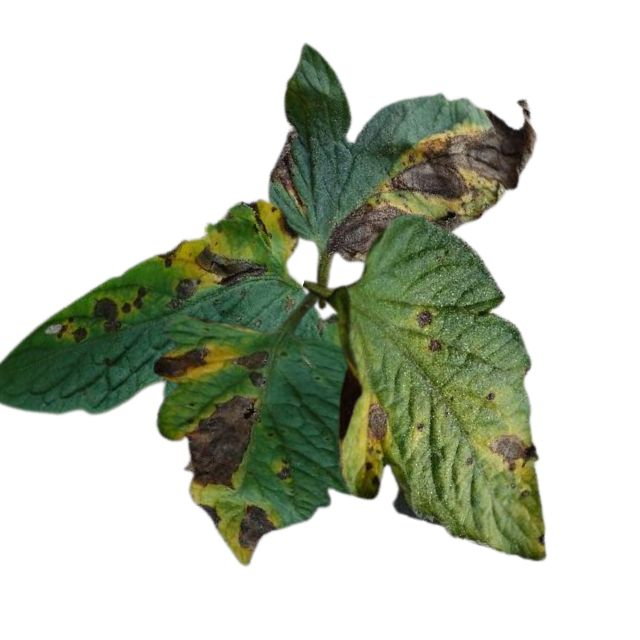Early_blight: (385, 101, 538, 209), (185, 393, 261, 490), (326, 206, 410, 264), (194, 244, 268, 293), (269, 129, 302, 213), (487, 429, 537, 473), (151, 344, 210, 379), (236, 502, 276, 550), (230, 347, 270, 389), (428, 210, 481, 233), (364, 397, 388, 447), (164, 275, 201, 307), (89, 297, 122, 332), (57, 315, 87, 344), (154, 242, 185, 269), (121, 284, 147, 314), (198, 500, 222, 530), (276, 213, 300, 237), (412, 307, 433, 330), (276, 455, 292, 480), (426, 335, 441, 353)
